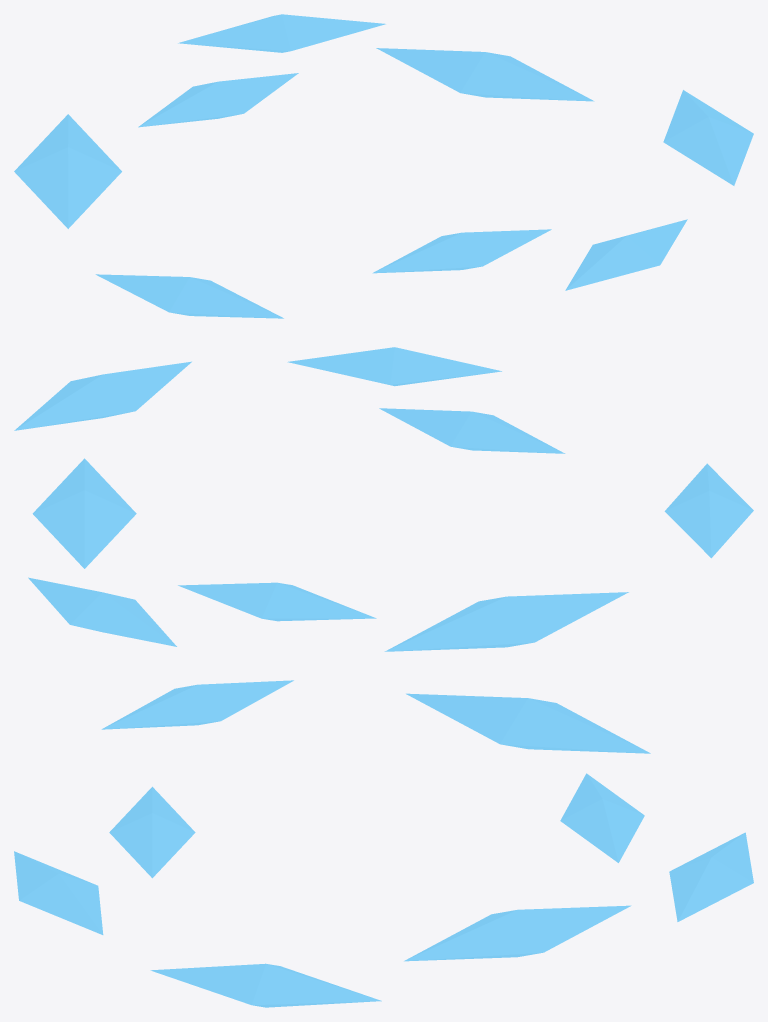
Rendered from active_tile_indicator.glb.
3 views of the same model, one above another, from view 1: azimuth 30°, elevation 25°; view 2: azimuth 150°, elevation 25°; view 3: azimuth 270°, elevation 25° (orthographic). The views are drawn at different scales.
Parts seen in each view (by area): view 1: Plane.001; view 2: Plane.001; view 3: Plane.001.
Part boxes in pixels (<box>): Plane.001: <box>14,14,753,318</box>; Plane.001: <box>14,347,753,651</box>; Plane.001: <box>14,680,753,1007</box>.
Bounding box in the file's own units: 1.05 × 0.0774 × 1.01.
